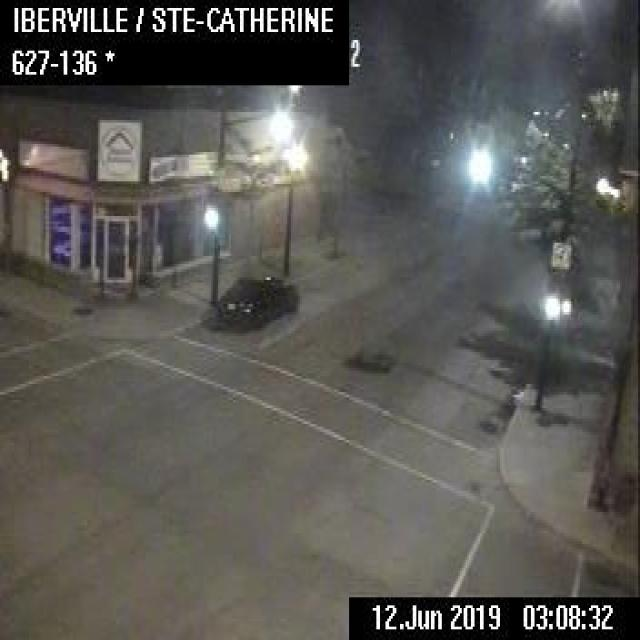vehicle: (216, 272, 296, 326)
